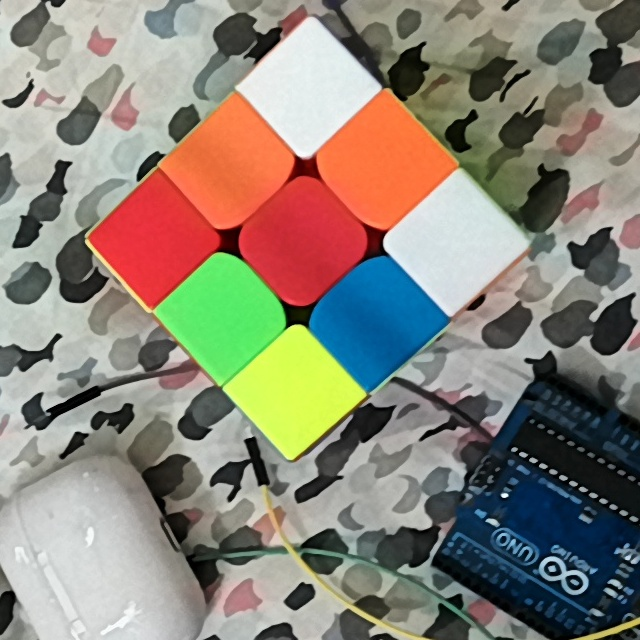tile: (269, 202, 340, 277), (418, 208, 490, 279), (188, 279, 261, 349), (344, 283, 412, 356), (198, 126, 266, 199), (120, 205, 190, 275), (351, 126, 418, 198), (264, 357, 329, 428), (274, 53, 340, 121)
